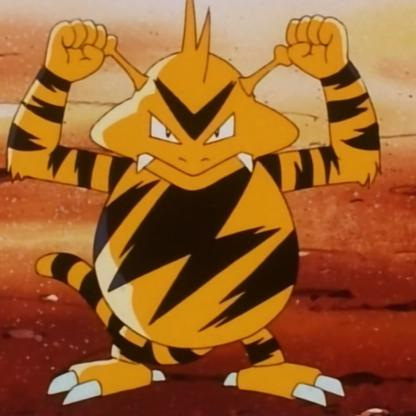Electabuzz: (20, 1, 416, 416)
